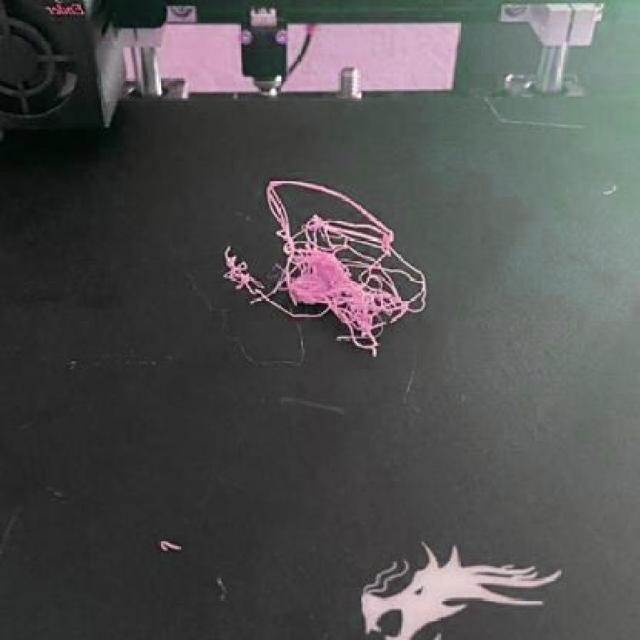Spaghetti: (224, 178, 428, 358)
